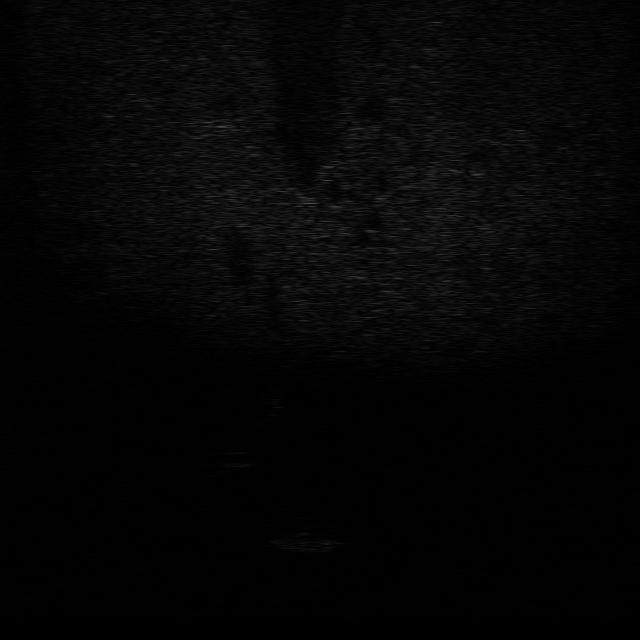ball: (214, 446, 254, 472)
circle cage: (266, 524, 342, 556)
human body: (251, 378, 290, 427)
